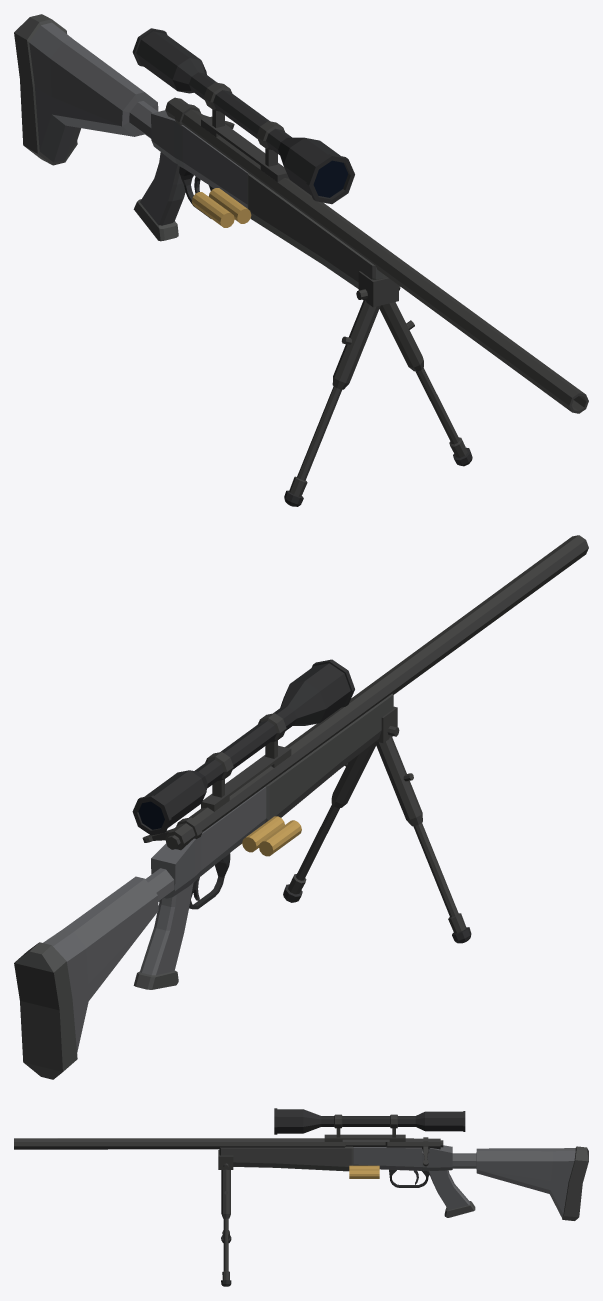
The model's file is weapon_07.glb.
3 renders of one model, top to bottom at view 1: azimuth 30°, elevation 25°; view 2: azimuth 150°, elevation 25°; view 3: azimuth 270°, elevation 25°, orthographic. The views are drawn at different scales.
Parts seen in each view (by area): view 1: receiver_geometry, reload_rounds_geometry; view 2: receiver_geometry, reload_rounds_geometry; view 3: receiver_geometry, reload_rounds_geometry.
Boxes of the visible parts, bbox=[...] form: receiver_geometry: bbox=[14, 14, 588, 506]; reload_rounds_geometry: bbox=[191, 188, 251, 227]; receiver_geometry: bbox=[14, 535, 588, 1079]; reload_rounds_geometry: bbox=[239, 816, 301, 856]; receiver_geometry: bbox=[14, 1108, 588, 1286]; reload_rounds_geometry: bbox=[349, 1165, 379, 1178].
Bounding box in the file's own units: 0.2324 × 0.3537 × 1.18.
